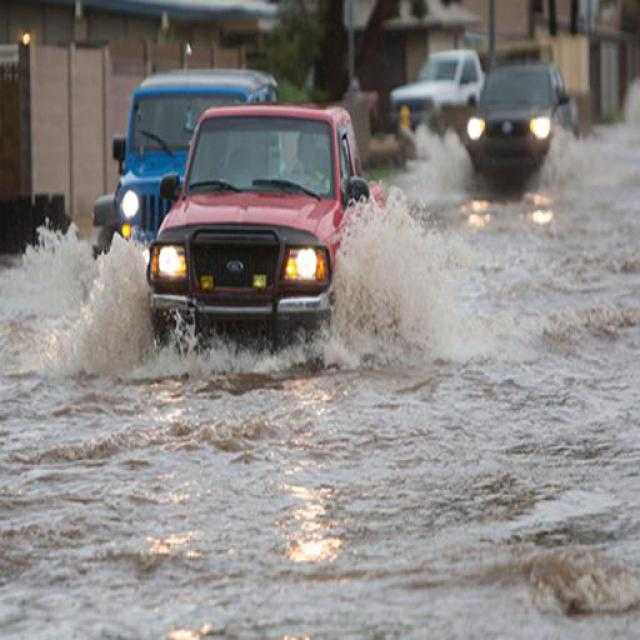puddle: (2, 358, 640, 640), (397, 190, 632, 482)
